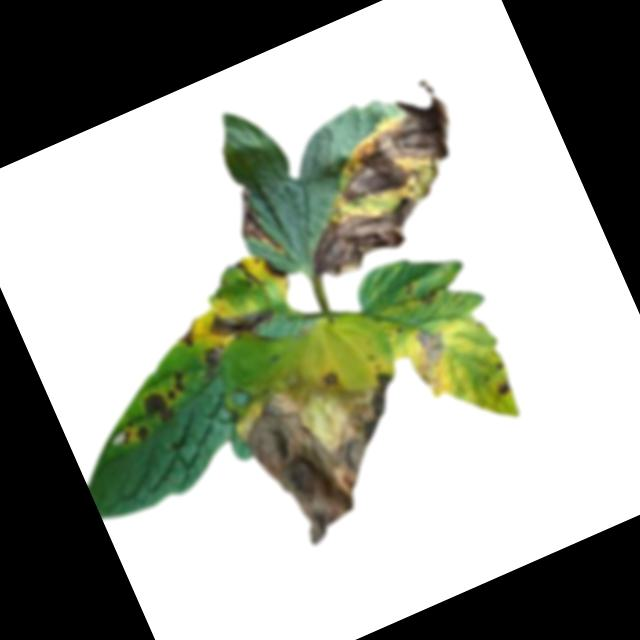Early_blight: (224, 337, 449, 557), (296, 73, 467, 214), (296, 170, 458, 287), (402, 319, 463, 395), (205, 292, 280, 350), (224, 185, 277, 258), (190, 343, 232, 383), (138, 386, 176, 427), (251, 248, 288, 288), (170, 318, 205, 351), (116, 417, 153, 448), (160, 368, 192, 402), (413, 282, 444, 308), (489, 376, 514, 400)
